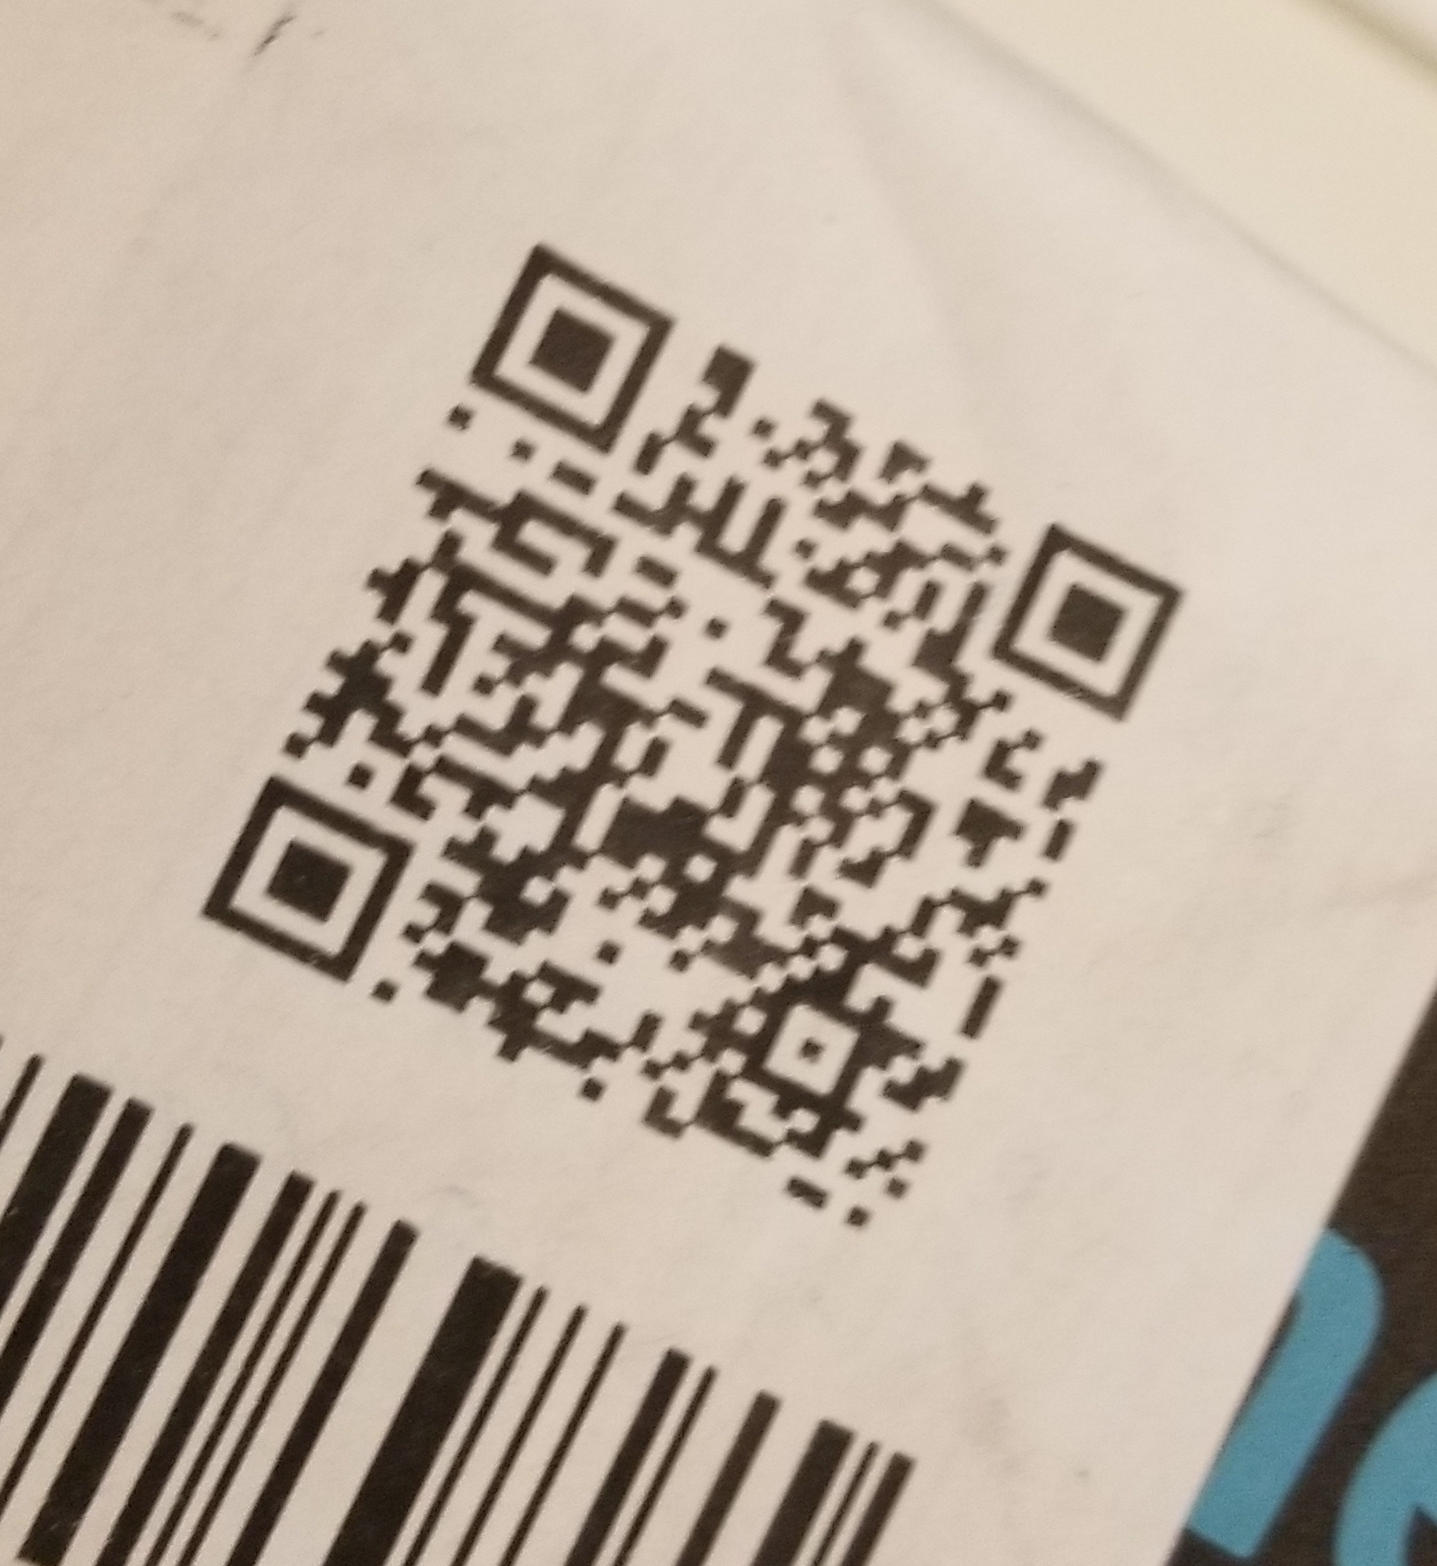QR_CODE: (156, 201, 1221, 1258)
